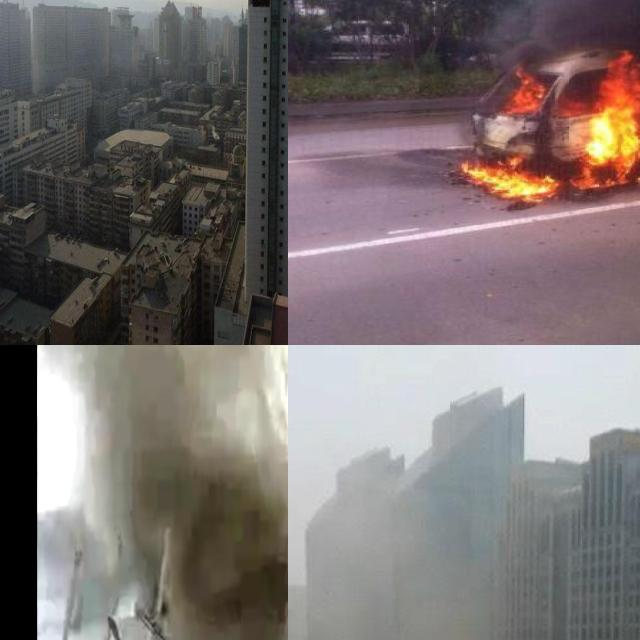fire: (455, 50, 640, 201)
smoke: (40, 345, 288, 640)
